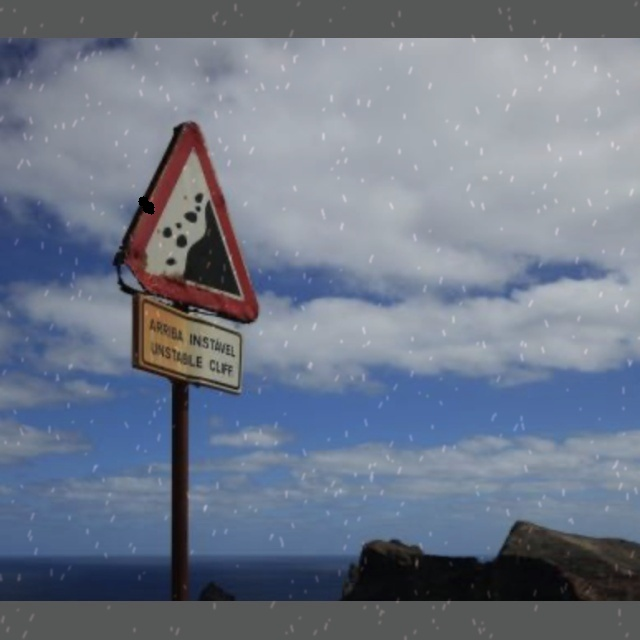Falling_Rocks: (118, 120, 261, 311)
